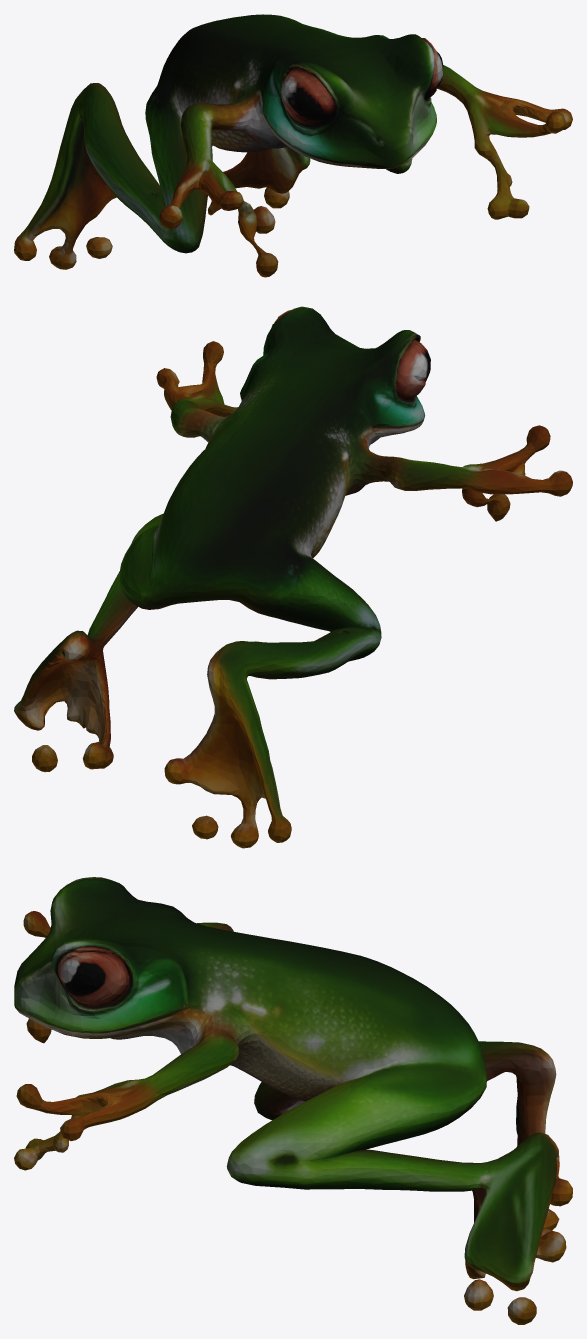
Rendered from efd49b0a-5848-441b-81de-b211aaf74a06 copy.glb.
3 views of the same model, one above another, from view 1: azimuth 30°, elevation 25°; view 2: azimuth 150°, elevation 25°; view 3: azimuth 270°, elevation 25° (orthographic). The views are drawn at different scales.
Parts seen in each view (by area): view 1: world; view 2: world; view 3: world.
Part boxes in pixels (left/top/right/bottom): world: left=14, top=14, right=572, bottom=277; world: left=14, top=306, right=572, bottom=848; world: left=14, top=877, right=572, bottom=1324.
Size of the model in its own units: 0.9329 by 0.742 by 0.9944.
Materials: 1 (1 with a texture image).
